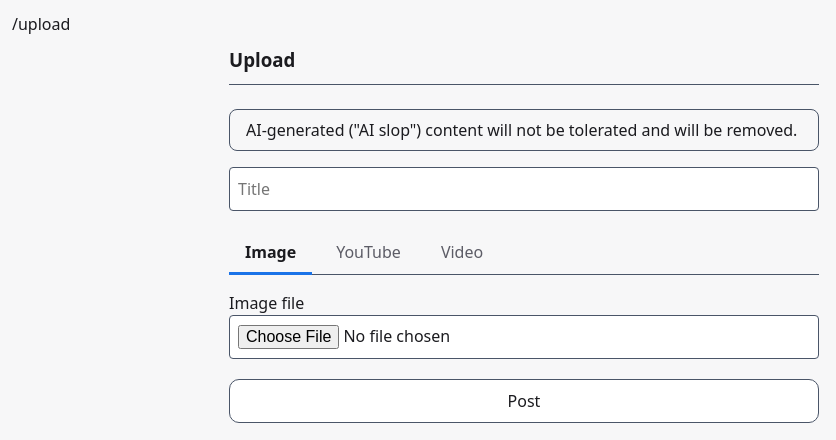
UploadPage › switches to the YouTube link input when the YouTube tab is chosen
Click the tab "YouTube" at (369, 253), box x1=320 y1=231 x2=417 y2=275
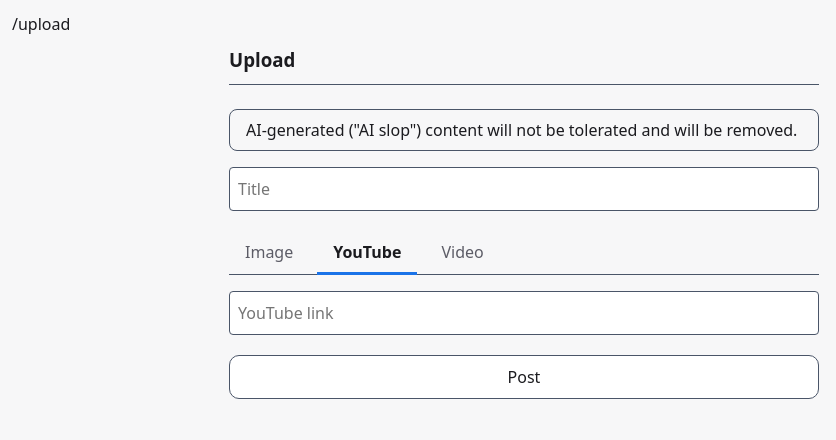
Check: the field labelled "YouTube link" is shown, box x1=229 y1=291 x2=819 y2=335
Check: the label labelled "Image file" is gone
